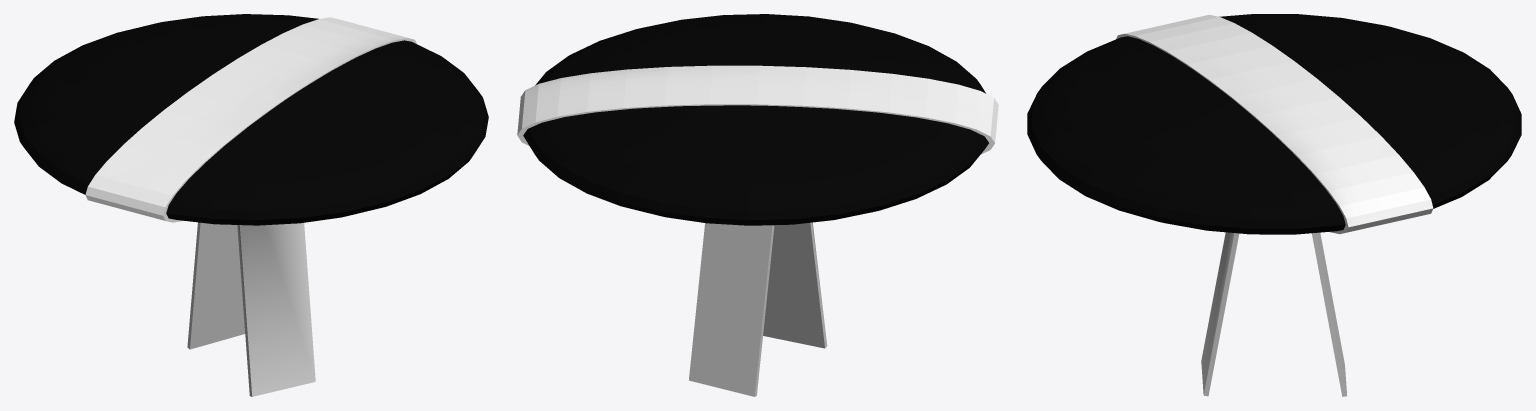
File: radome.glb
The picture shows the model from 3 angles, left to right: view 1: azimuth 30°, elevation 25°; view 2: azimuth 150°, elevation 25°; view 3: azimuth 270°, elevation 25°; orthographic projection. The views are drawn at different scales.
Parts seen in each view (by area): view 1: 球.001, 円柱, 立方体.001, 立方体; view 2: 球.001, 円柱, 立方体, 立方体.001; view 3: 球.001, 円柱, 立方体.001, 立方体.
Part boxes in pixels (<box>): 球.001: <box>14,14,488,225</box>; 円柱: <box>85,17,416,222</box>; 立方体.001: <box>237,223,315,396</box>; 立方体: <box>187,222,245,349</box>; 球.001: <box>523,14,988,225</box>; 円柱: <box>517,65,998,154</box>; 立方体: <box>689,223,774,396</box>; 立方体.001: <box>763,222,827,348</box>; 球.001: <box>1027,14,1521,234</box>; 円柱: <box>1116,14,1433,234</box>; 立方体.001: <box>1201,232,1239,396</box>; 立方体: <box>1312,232,1347,396</box>.
Size of the model in its own units: 14.2 by 9.29 by 14.2.
2 materials, 2 textured.
